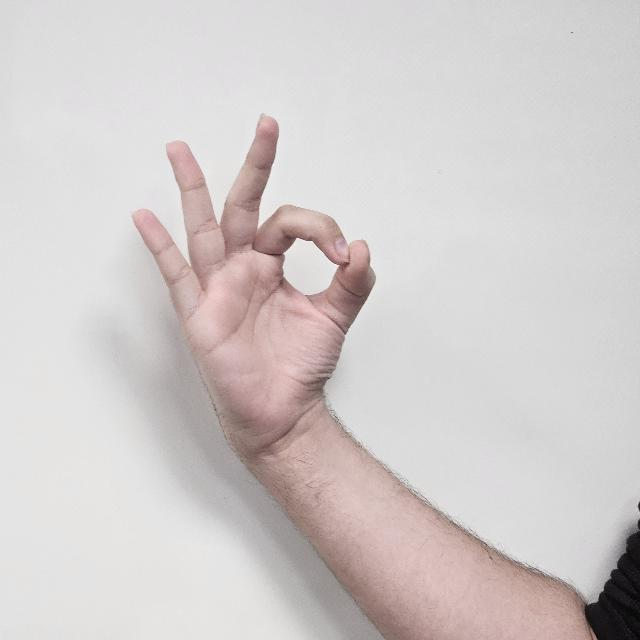Bolinha: (123, 114, 393, 466)
